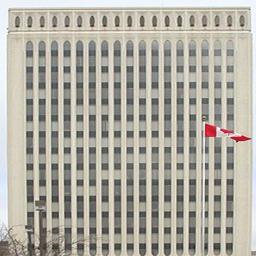building: (6, 2, 256, 256)
